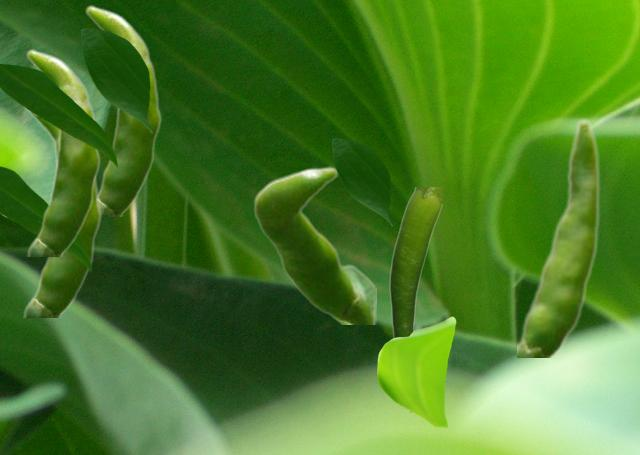green_chili: (517, 117, 600, 356), (253, 166, 375, 323), (21, 107, 101, 316), (84, 4, 161, 215), (25, 48, 100, 255), (389, 187, 441, 412)
